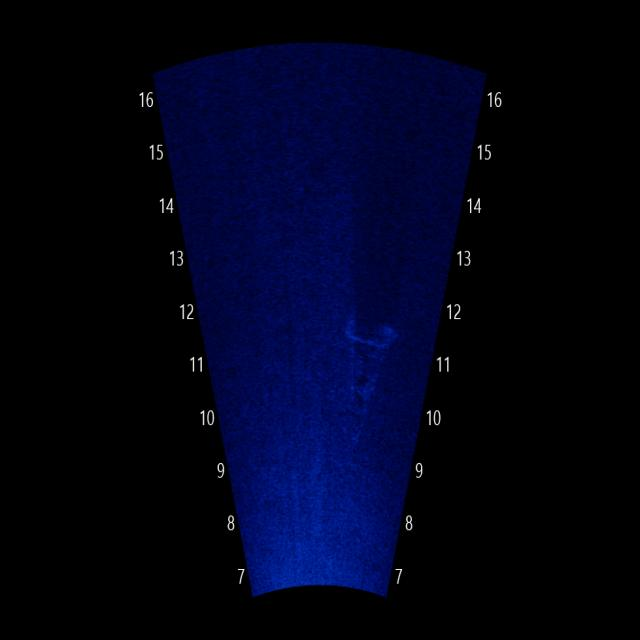triangle: (336, 303, 400, 457)
